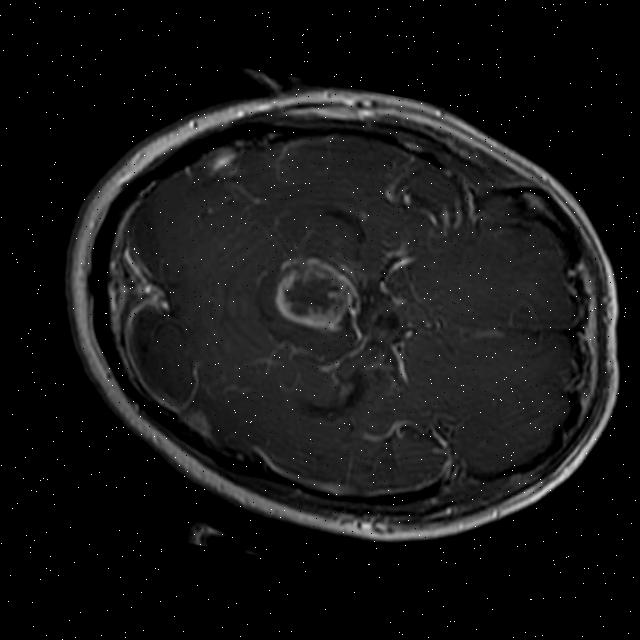Glioma: (266, 249, 358, 337)
